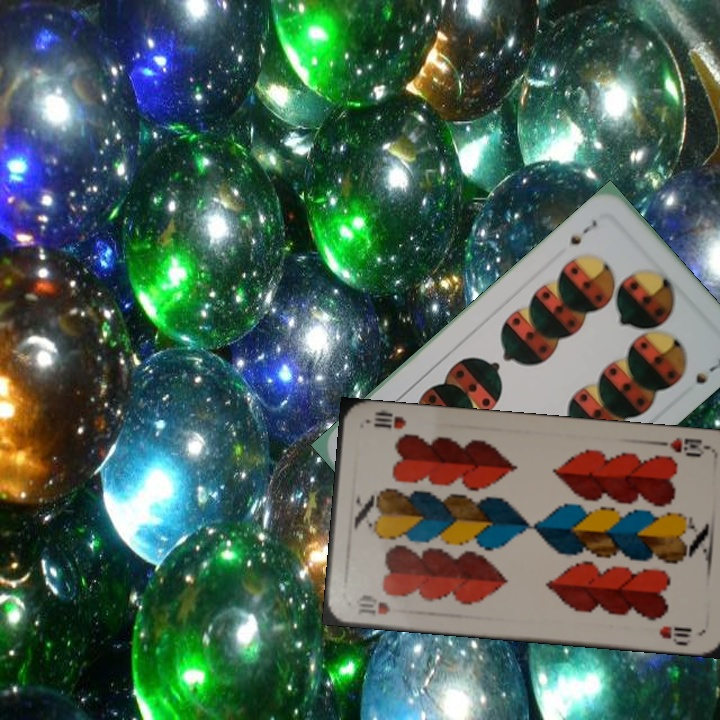H10: (666, 433, 712, 460), (352, 592, 393, 619)
S7: (566, 215, 600, 248)
